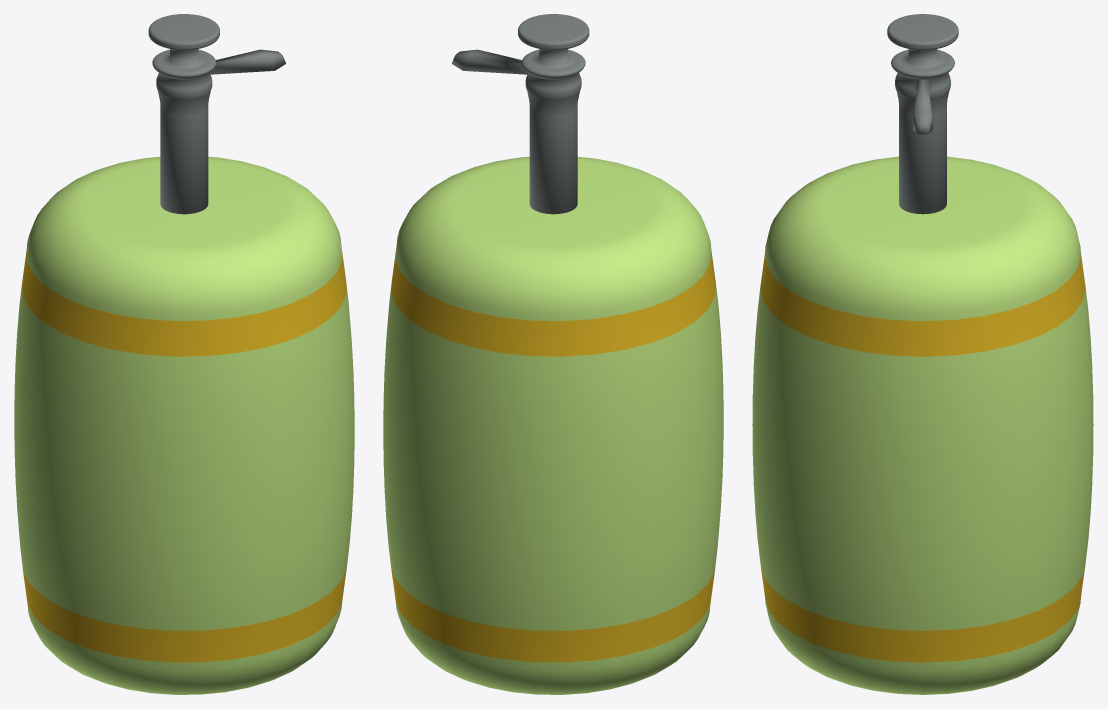
File: Soap Dispenser.fbx
3 views of the same model, side by side, from view 1: azimuth 30°, elevation 25°; view 2: azimuth 150°, elevation 25°; view 3: azimuth 270°, elevation 25° (orthographic).
Visible parts, largest first — view 1: Soap Dispenser; view 2: Soap Dispenser; view 3: Soap Dispenser.
Part boxes in pixels (box(x1,y1,x2,y2)): Soap Dispenser: box(14, 14, 354, 694); Soap Dispenser: box(383, 14, 723, 694); Soap Dispenser: box(752, 14, 1093, 694).
Bounding box in the file's own units: 216 × 431 × 216.
